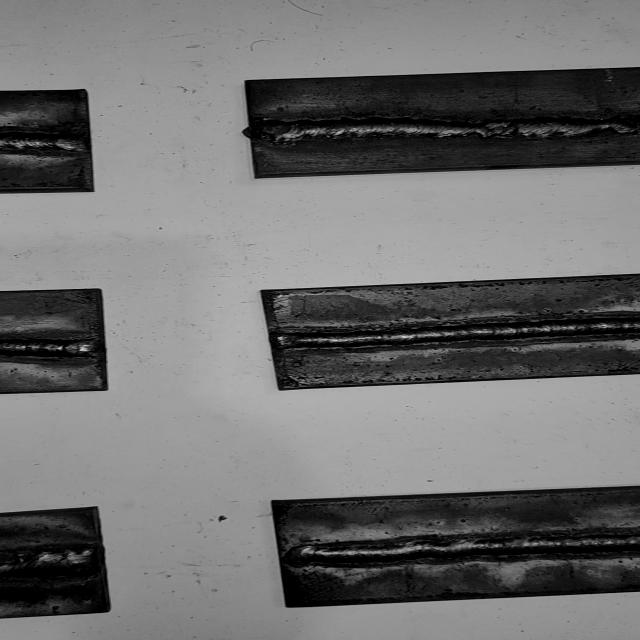Good Weld: (273, 314, 640, 349), (286, 531, 640, 566), (252, 115, 640, 140), (0, 546, 98, 582), (0, 335, 104, 361), (0, 130, 88, 155)
